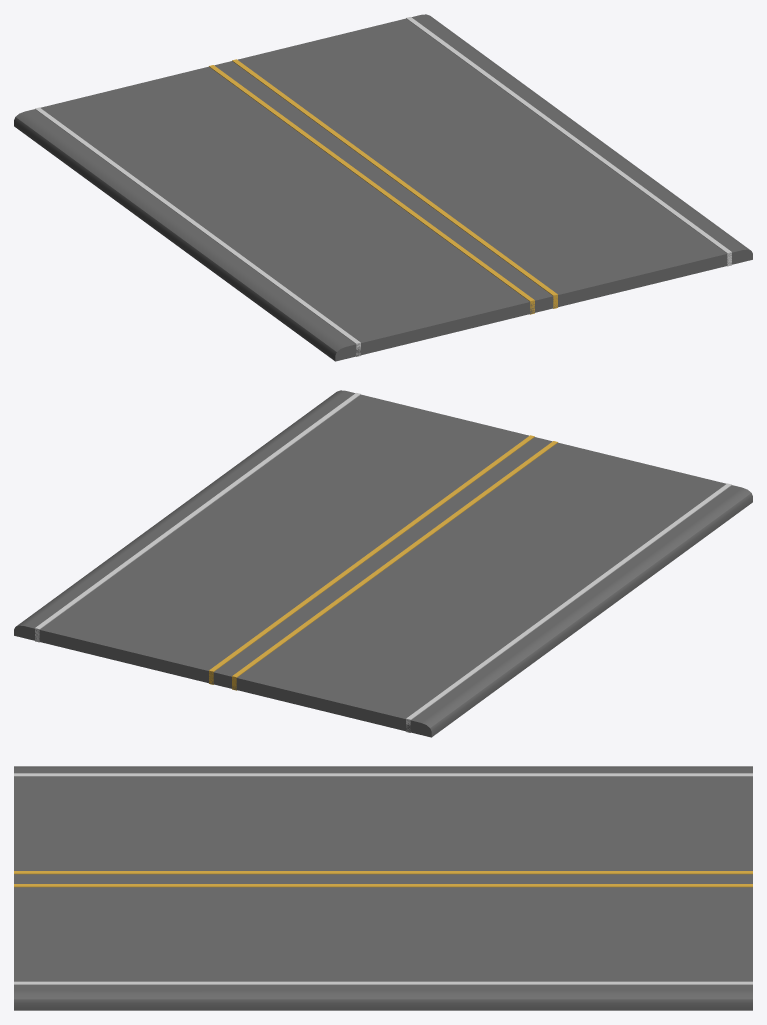
The model's file is RoadStraight.fbx.
3 views of the same model, one above another, from view 1: azimuth 30°, elevation 25°; view 2: azimuth 150°, elevation 25°; view 3: azimuth 270°, elevation 25° (orthographic). The views are drawn at different scales.
Visible parts, largest first — view 1: pasted__pCube4; view 2: pasted__pCube4; view 3: pasted__pCube4.
Boxes of the visible parts, <box> form: pasted__pCube4: <box>14,14,752,361</box>; pasted__pCube4: <box>14,390,752,737</box>; pasted__pCube4: <box>14,766,752,1010</box>.
Bounding box in the file's own units: 18 × 0.55 × 24.
